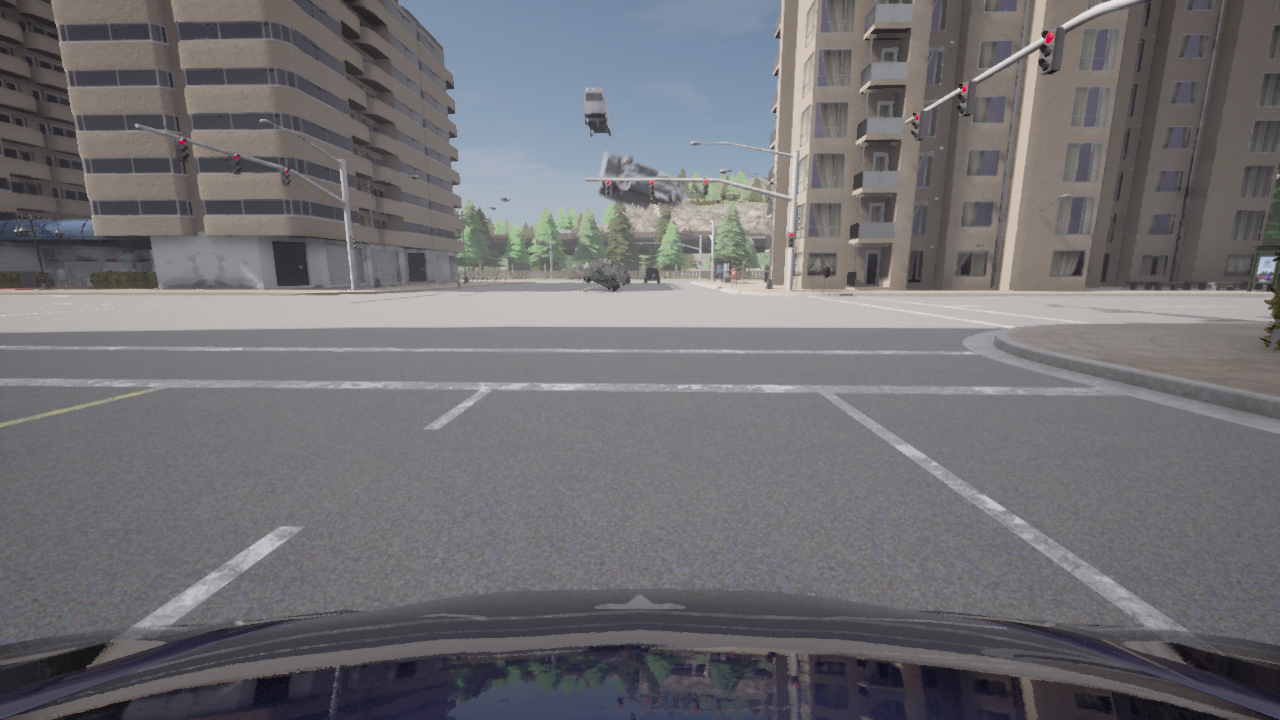cyclist: (0, 588, 1279, 719), (597, 152, 685, 210), (583, 87, 612, 137), (582, 260, 620, 291), (645, 268, 659, 282), (619, 268, 630, 283), (619, 270, 626, 285)
pedestrian: (820, 260, 831, 296), (730, 263, 739, 287), (455, 274, 460, 291)
